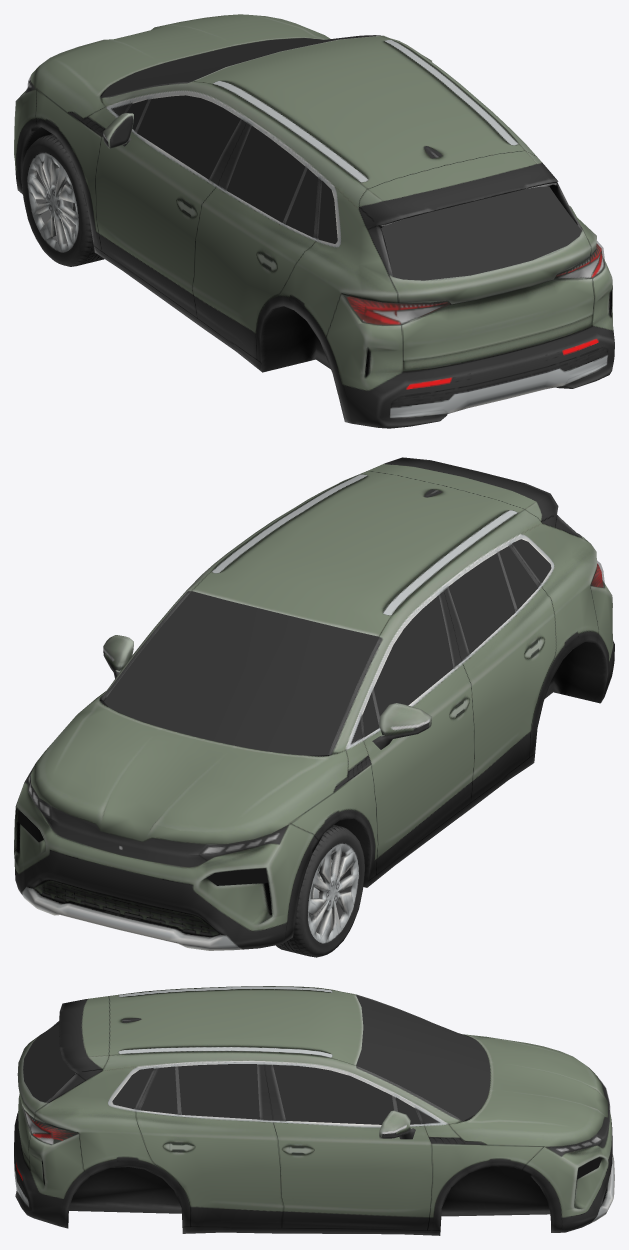
The model's file is car 31.fbx.
3 renders of one model, top to bottom at view 1: azimuth 30°, elevation 25°; view 2: azimuth 150°, elevation 25°; view 3: azimuth 270°, elevation 25°, orthographic. The views are drawn at different scales.
Parts seen in each view (by area): view 1: body, tyer, lights; view 2: body, tyer, lights; view 3: body, lights.
Part boxes in pixels (x1=…): body: x1=14, y1=14, x2=614, y2=428; tyer: x1=21, y1=134, x2=104, y2=266; lights: x1=26, y1=77, x2=605, y2=325; body: x1=14, y1=457, x2=614, y2=950; tyer: x1=276, y1=825, x2=364, y2=957; lights: x1=25, y1=563, x2=605, y2=860; body: x1=14, y1=986, x2=614, y2=1235; lights: x1=22, y1=1105, x2=602, y2=1155.
Size of the model in its own units: 2128 by 1629 by 4459.
2 materials, 1 textured.
